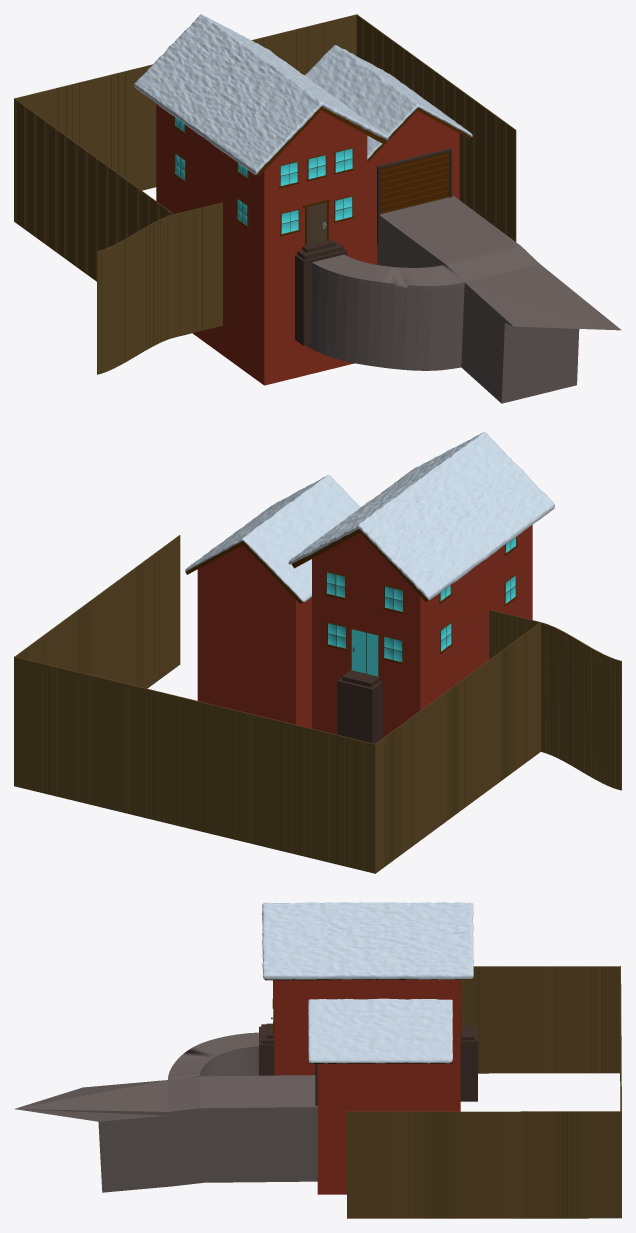
Rendered from valmershouse_compressed.glb.
3 renders of one model, top to bottom at view 1: azimuth 30°, elevation 25°; view 2: azimuth 150°, elevation 25°; view 3: azimuth 270°, elevation 25°, orthographic. The views are drawn at different scales.
Visible parts, largest first — view 1: Cube.667, Cube.661, Cube.666, Cube.680, Cube.662, Cube.663, Cube.676; view 2: Cube.667, Cube.666, Cube.680, Cube.662, Cube.663; view 3: Cube.667, Cube.661, Cube.680, Cube.666, Cube.663, Cube.662.
Part boxes in pixels (bbox=[...]): Cube.667: bbox=[14, 14, 516, 374]; Cube.661: bbox=[306, 195, 621, 403]; Cube.666: bbox=[156, 103, 459, 385]; Cube.680: bbox=[134, 14, 472, 174]; Cube.662: bbox=[173, 106, 471, 245]; Cube.663: bbox=[295, 148, 452, 345]; Cube.676: bbox=[307, 202, 326, 244]; Cube.667: bbox=[14, 535, 621, 873]; Cube.666: bbox=[197, 525, 532, 737]; Cube.680: bbox=[185, 432, 554, 601]; Cube.662: bbox=[185, 529, 517, 676]; Cube.663: bbox=[337, 670, 382, 743]; Cube.667: bbox=[347, 966, 621, 1218]; Cube.661: bbox=[15, 1032, 317, 1192]; Cube.680: bbox=[262, 902, 473, 1063]; Cube.666: bbox=[274, 980, 460, 1194]; Cube.663: bbox=[259, 1023, 477, 1105]; Cube.662: bbox=[264, 979, 470, 1063].
Size of the model in its own units: 4.76 by 2.99 by 6.88.
